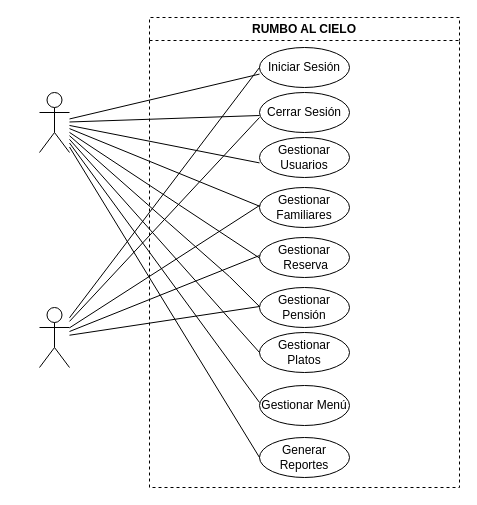
The diagram is 477 pixels wide and 505 high, and some of its shapes have lost their labels. Each missing label, with the centre of its shape:
"Administrador" belongs at point (54, 122).
"Empleado" belongs at point (54, 337).
